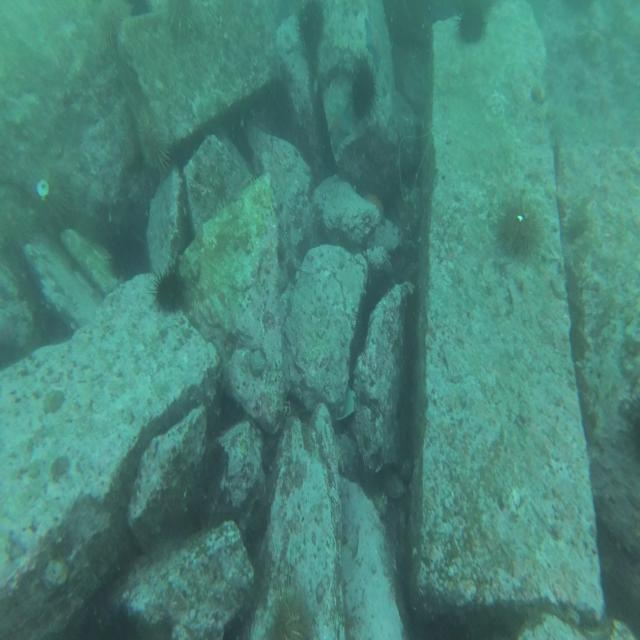echinus: (31, 172, 79, 230), (502, 189, 542, 256), (270, 588, 317, 640), (139, 113, 172, 171), (349, 49, 378, 114), (149, 273, 192, 314), (299, 4, 327, 57), (167, 4, 205, 39), (456, 7, 488, 42)
